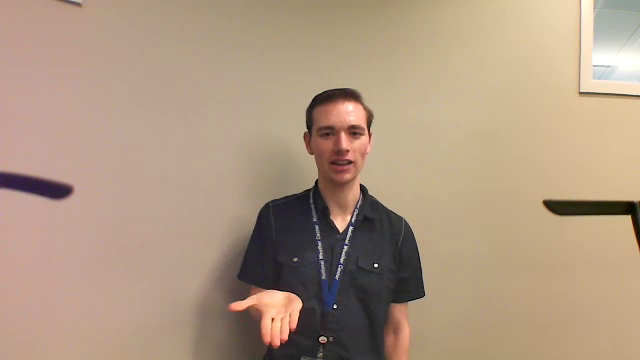land: (221, 282, 312, 354)
